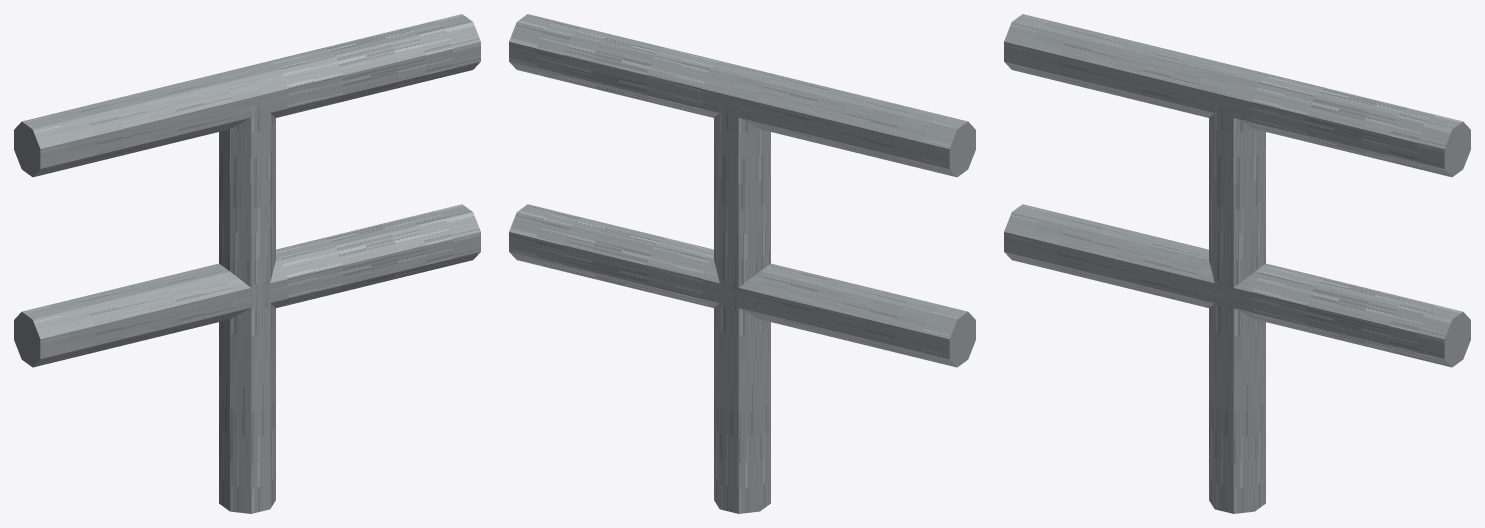
Rendered from level.obj.
3 views of the same model, side by side, from view 1: azimuth 30°, elevation 25°; view 2: azimuth 150°, elevation 25°; view 3: azimuth 330°, elevation 25° (orthographic).
Visible parts, largest first — view 1: railing_pipe_galvanized_level; view 2: railing_pipe_galvanized_level; view 3: railing_pipe_galvanized_level.
Part boxes in pixels (box(x1,y1,x2,y2)): railing_pipe_galvanized_level: box(14, 14, 480, 513); railing_pipe_galvanized_level: box(509, 14, 975, 513); railing_pipe_galvanized_level: box(1004, 14, 1470, 513).
Size of the model in its own units: 1 by 0.9332 by 0.1039.
